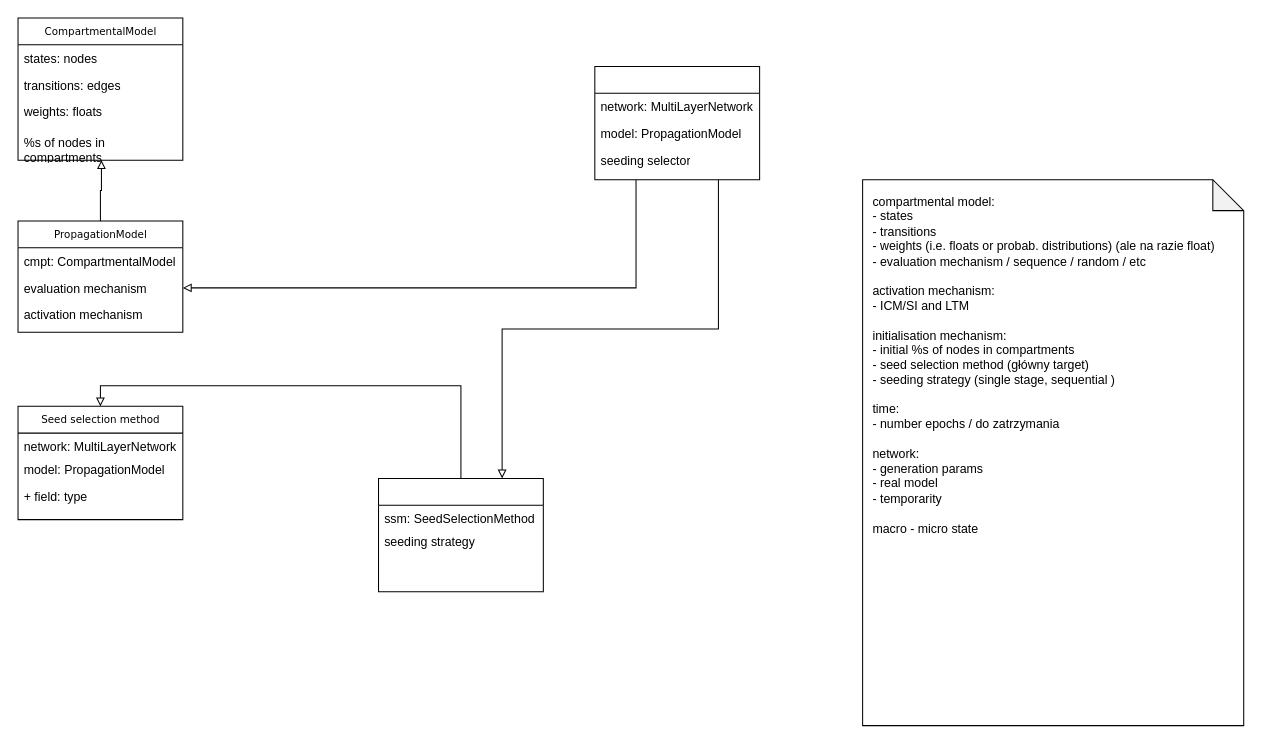
This 1262x744 diagram has some shape labels left out. The shapes that lost their labels are listed below. From the top down, each one's box as (x1, y1, x2, y2) in pixels, then its label:
(594, 65, 760, 180): MultiSpreading
(377, 477, 543, 592): SeedingSelector
